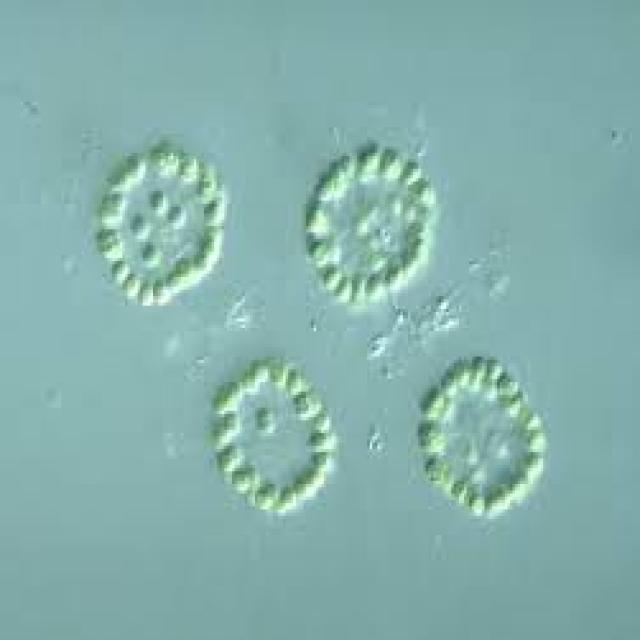Blue Green Algae: (304, 203, 332, 236), (423, 389, 454, 417), (377, 150, 403, 182), (230, 465, 252, 497), (359, 143, 380, 175), (204, 197, 227, 226), (401, 156, 424, 185), (314, 175, 336, 204), (332, 153, 354, 181), (140, 239, 161, 267), (365, 274, 385, 302), (497, 373, 518, 398), (321, 264, 339, 293), (153, 280, 173, 306), (130, 213, 150, 239), (385, 261, 405, 287), (110, 255, 128, 283), (334, 274, 352, 302), (349, 274, 367, 302), (449, 478, 469, 503), (150, 191, 168, 213), (168, 204, 186, 226), (469, 493, 485, 516), (522, 411, 540, 430), (140, 283, 153, 309), (125, 274, 138, 299)
